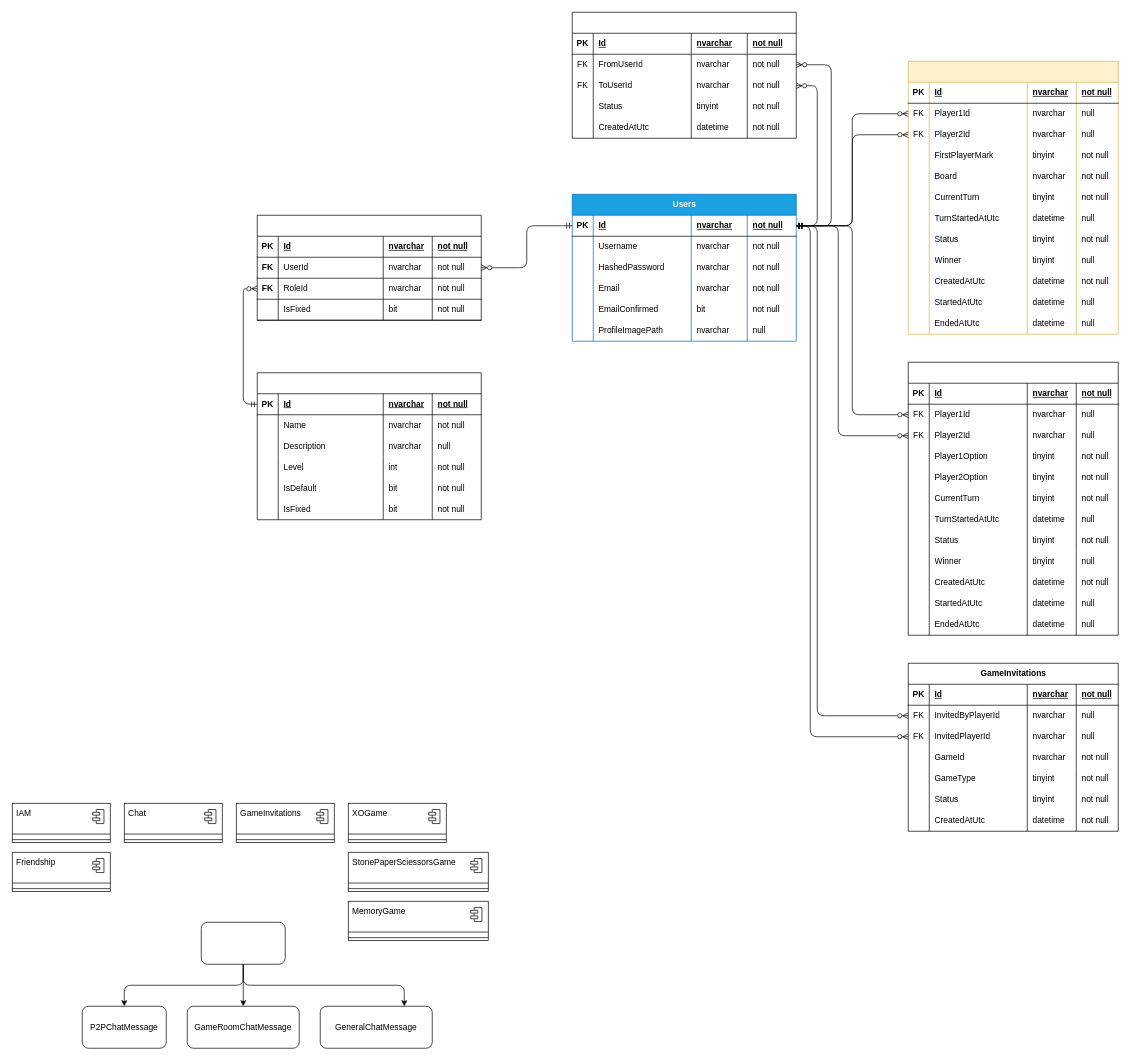
The diagram is 1131 pixels wide and 1061 high, and some of its shapes have lost their labels. The shapes that lost their labels are listed below. From the top down, each one's box as (x1, y1, x2, y2) in pixels, then its label:
(572, 12, 796, 138): UserFriendships
(908, 61, 1118, 334): XOGames
(257, 215, 481, 320): UserRoles
(257, 372, 481, 520): Roles
(908, 362, 1118, 635): StonePaperScissorsGames
(201, 922, 285, 964): Message
